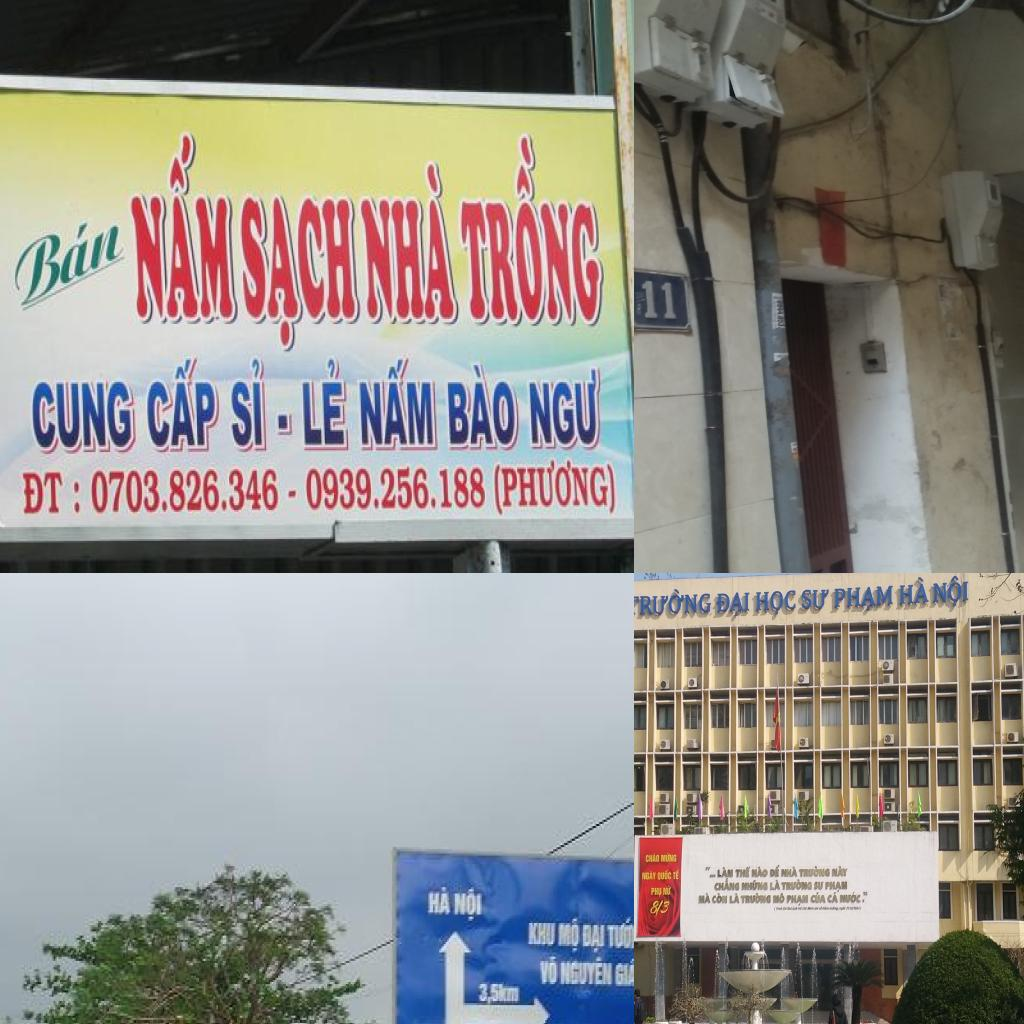text: (449, 128, 611, 331), (126, 128, 240, 326), (238, 191, 363, 355), (357, 157, 463, 329), (10, 205, 128, 319), (90, 467, 282, 517), (304, 466, 489, 515), (31, 379, 138, 457), (356, 356, 440, 454), (143, 355, 223, 455), (445, 360, 521, 454), (527, 366, 607, 454), (300, 355, 350, 454), (229, 356, 269, 454), (22, 471, 82, 517), (634, 587, 711, 616), (559, 955, 615, 988), (834, 584, 894, 613), (640, 279, 679, 321), (931, 573, 970, 607), (477, 980, 523, 1007), (524, 914, 558, 950), (455, 885, 485, 925), (605, 914, 634, 952), (755, 588, 797, 614), (899, 574, 931, 608), (556, 916, 582, 956), (426, 885, 454, 921), (714, 590, 751, 617), (580, 921, 607, 957), (613, 954, 634, 990), (802, 586, 830, 613), (539, 955, 559, 986), (839, 888, 869, 905), (649, 898, 672, 916), (781, 879, 813, 891), (799, 866, 830, 878), (714, 878, 740, 892), (741, 892, 771, 904), (740, 879, 768, 891), (825, 880, 849, 892), (786, 894, 809, 906), (776, 300, 786, 327), (831, 865, 848, 879), (781, 865, 799, 878), (660, 852, 678, 864), (718, 865, 734, 878), (735, 865, 751, 878), (712, 892, 728, 905), (752, 866, 768, 878), (810, 892, 826, 904), (645, 852, 660, 864), (657, 869, 672, 881), (697, 892, 711, 904), (772, 892, 786, 904), (641, 870, 657, 880), (704, 865, 716, 878), (650, 886, 662, 898), (827, 892, 839, 904), (770, 864, 780, 878), (729, 892, 740, 904), (662, 884, 672, 896), (770, 878, 780, 890), (634, 289, 644, 300), (814, 880, 824, 890), (635, 303, 643, 315), (673, 868, 680, 880), (773, 906, 783, 912), (829, 906, 839, 911), (822, 905, 830, 911), (839, 906, 847, 912), (786, 906, 792, 912), (802, 906, 808, 912), (807, 906, 814, 911), (792, 906, 798, 911), (814, 906, 819, 911), (783, 906, 787, 911), (798, 906, 803, 910), (818, 906, 823, 910)
